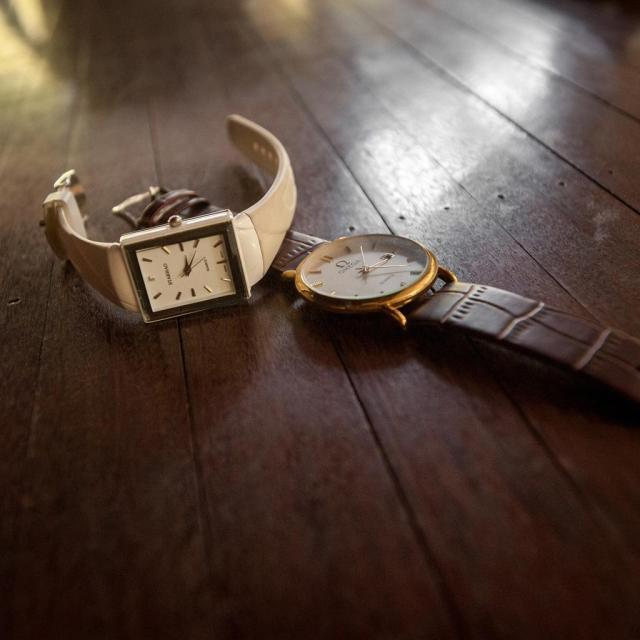Wrist watch: (270, 228, 640, 406), (43, 114, 298, 326)
